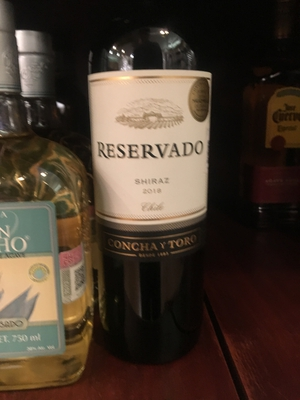reservado shiraz: (80, 25, 220, 359)
